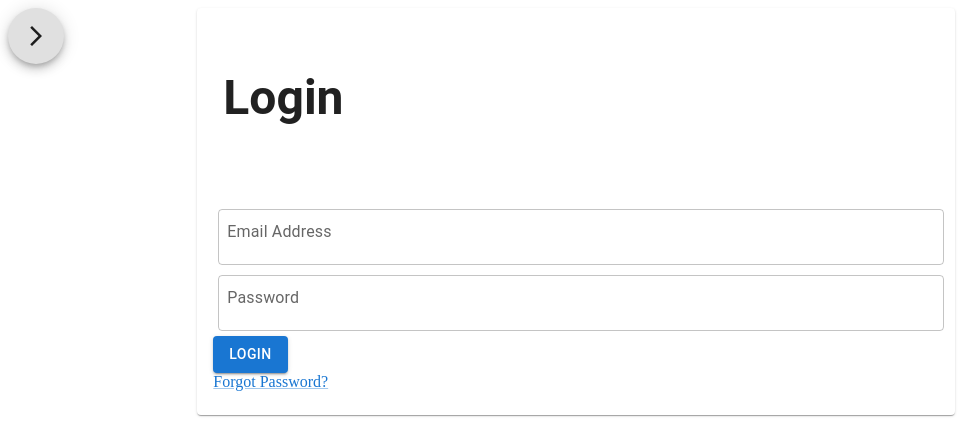
Login Page › should set try again later if login response is 2XX but not 200
In the field with id "email": x=581, y=237 [218, 209, 943, 265], type "test"
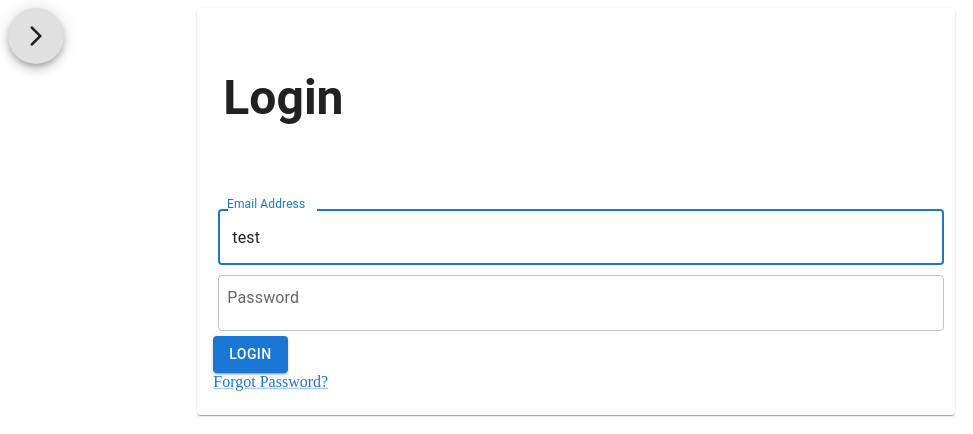
In the password field labelled "Password": x=581, y=303 [218, 275, 943, 331], type "password"
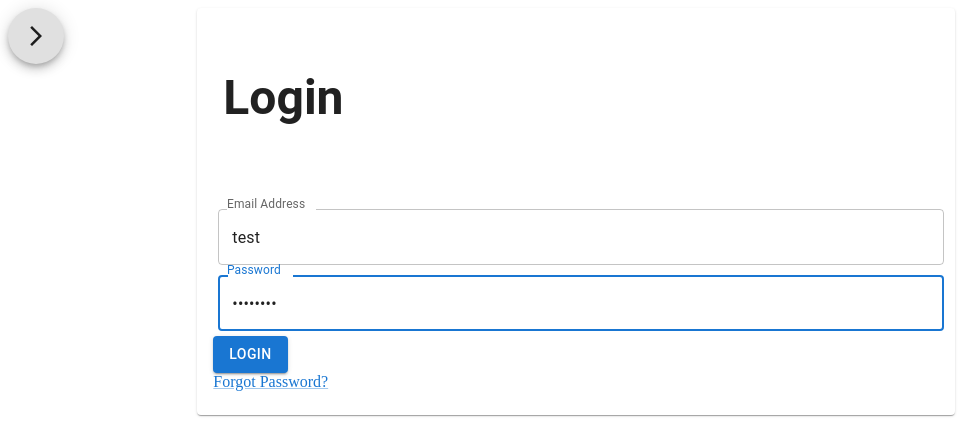
Click the button with id "login-submit": x=250, y=355 [213, 336, 287, 373]
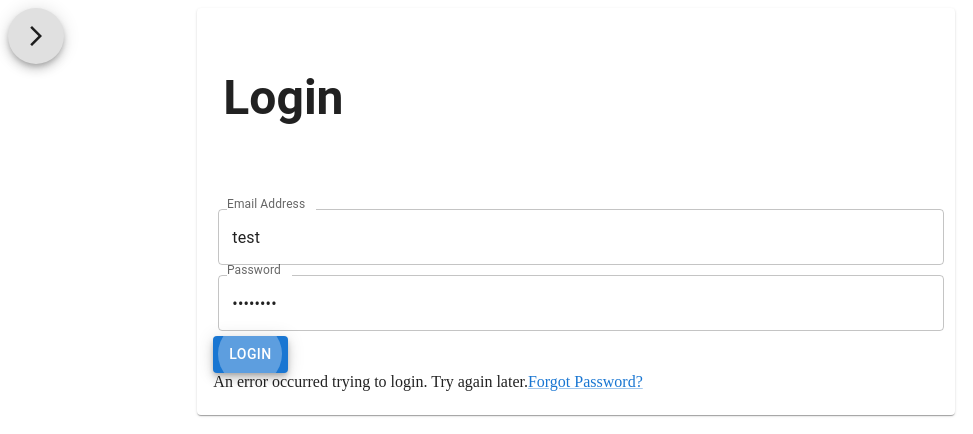
Result: the text with id "form-error-login-form" reads "An error occurred trying to login. Try again later." at [213, 373, 528, 390]
